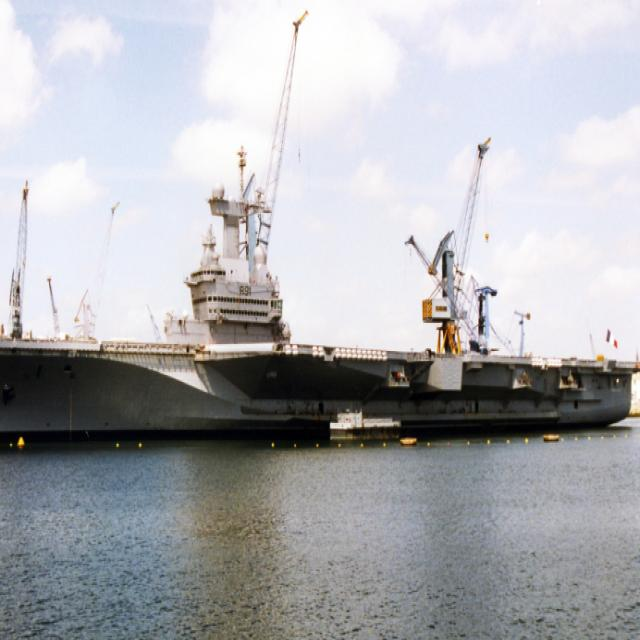Portanaves: (1, 203, 640, 455)
